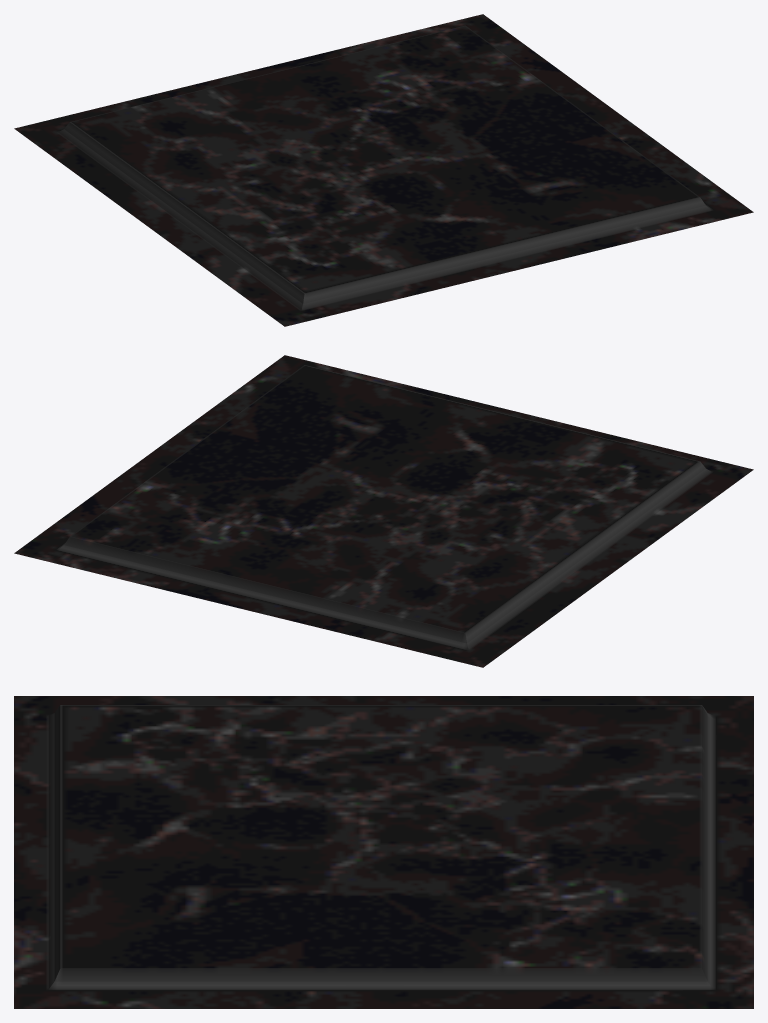
The model's file is sec1_1c.fbx.
3 views of the same model, one above another, from view 1: azimuth 30°, elevation 25°; view 2: azimuth 150°, elevation 25°; view 3: azimuth 270°, elevation 25° (orthographic). The views are drawn at different scales.
Visible parts, largest first — view 1: sec1_1c_mesh; view 2: sec1_1c_mesh; view 3: sec1_1c_mesh.
Boxes of the visible parts, x1,y1,x2,y2 form: sec1_1c_mesh: (14,14,753,326); sec1_1c_mesh: (14,355,753,667); sec1_1c_mesh: (14,696,753,1008).
Size of the model in its own units: 256 by 6 by 256.
